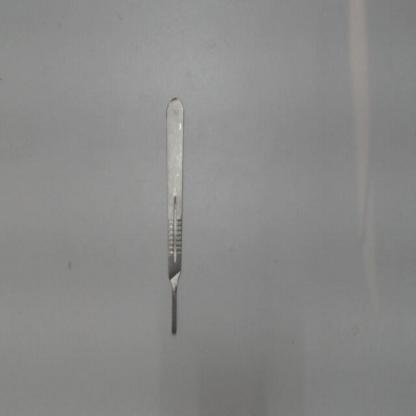No.4 BP Handle: (158, 83, 192, 342)
